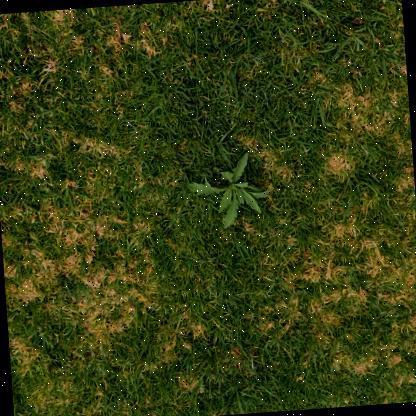Weeds: (184, 151, 273, 232)
